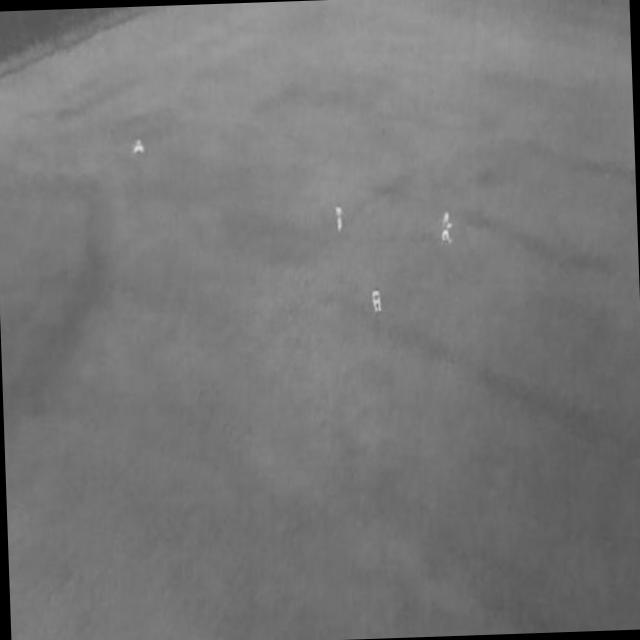person: (440, 211, 454, 245), (335, 203, 347, 233), (371, 287, 383, 315), (132, 138, 145, 156)
